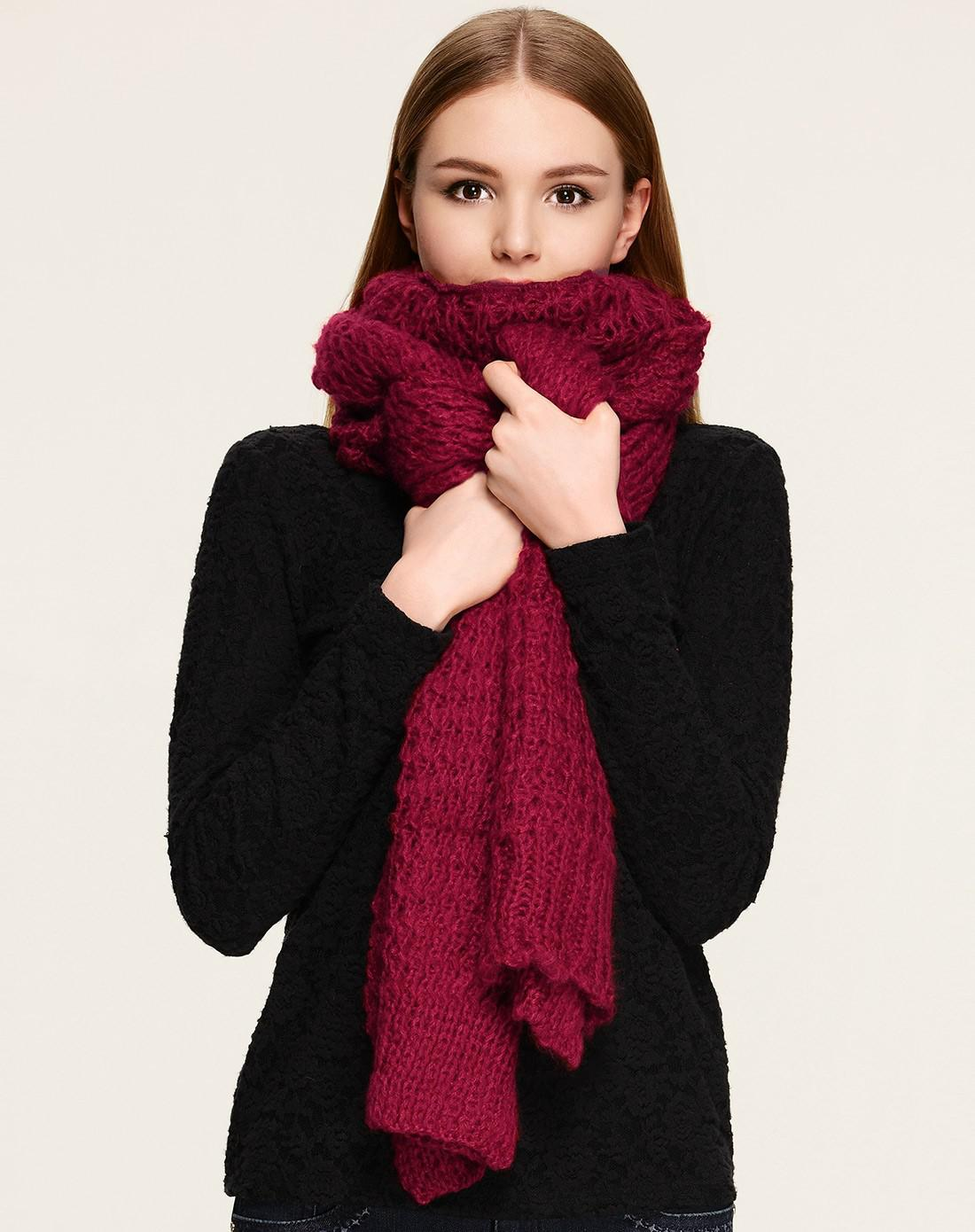WRONG: (417, 149, 615, 347)
